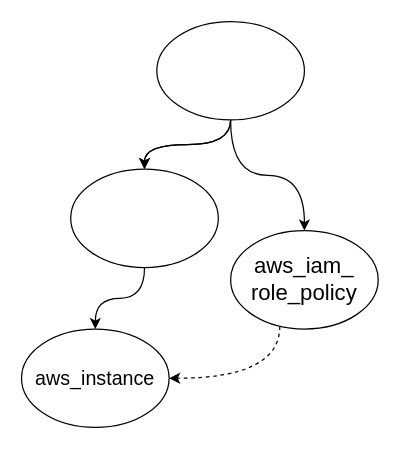
Some shapes in this 400 by 449 pixel diagram are drawn without their labels. The shapes that lost their labels are listed below. From the top down, each one's centre as x and y in pixels, then its label:
pixel 230 70: aws_iam_role
pixel 143 218: aws_iam_ instance_profile
